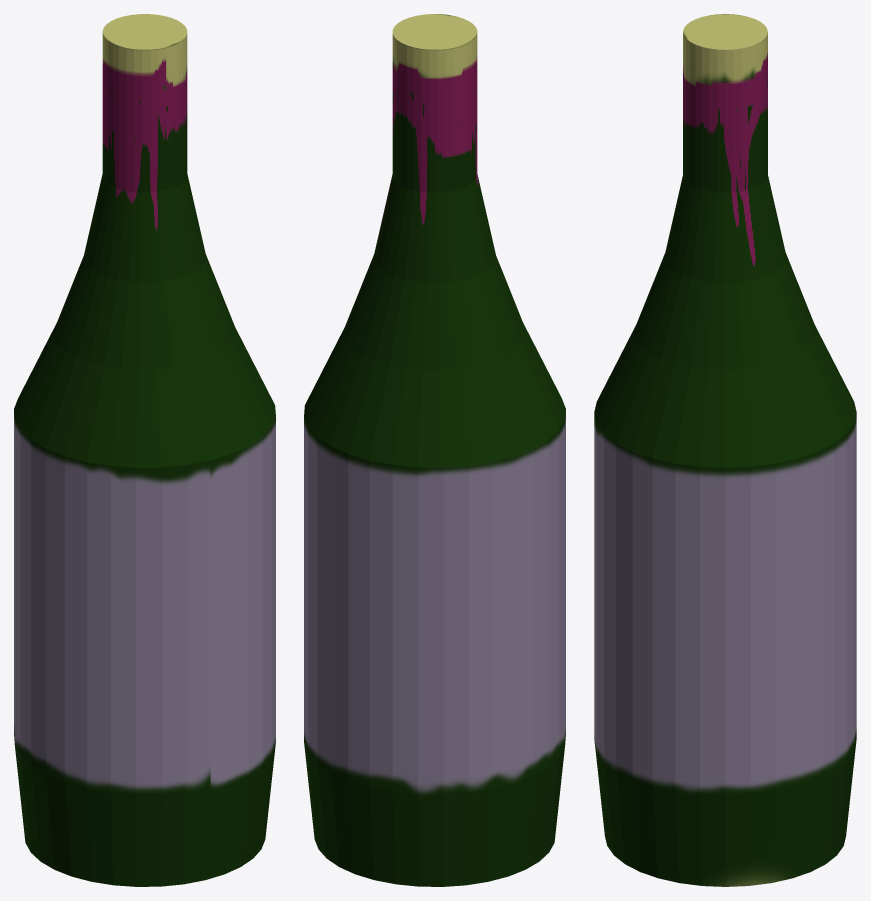
File: Bottle.fbx
3 renders of one model, left to right at view 1: azimuth 30°, elevation 25°; view 2: azimuth 150°, elevation 25°; view 3: azimuth 270°, elevation 25°, orthographic.
Visible parts, largest first — view 1: Cylinder; view 2: Cylinder; view 3: Cylinder.
Part boxes in pixels (x1,y1,x2,y2): Cylinder: (14, 14, 275, 886); Cylinder: (304, 14, 565, 886); Cylinder: (594, 14, 856, 886).
Bounding box in the file's own units: 0.2848 × 0.2848 × 0.9625.
1 material, 1 textured.
